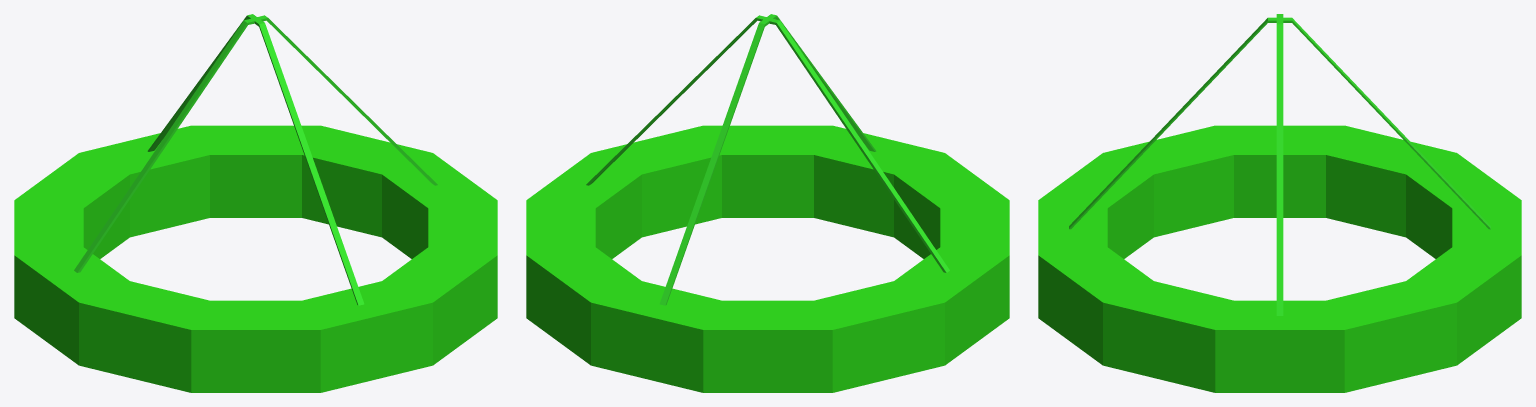
The model's file is Lamp_11_B.fbx.
3 views of the same model, side by side, from view 1: azimuth 30°, elevation 25°; view 2: azimuth 150°, elevation 25°; view 3: azimuth 270°, elevation 25° (orthographic).
Visible parts, largest first — view 1: Lamp_11_B, Lamp_11_B_Support; view 2: Lamp_11_B, Lamp_11_B_Support; view 3: Lamp_11_B, Lamp_11_B_Support.
Boxes of the visible parts, left/top/right/bottom form: Lamp_11_B: left=14, top=125, right=497, bottom=392; Lamp_11_B_Support: left=74, top=14, right=437, bottom=305; Lamp_11_B: left=526, top=125, right=1009, bottom=392; Lamp_11_B_Support: left=586, top=14, right=949, bottom=305; Lamp_11_B: left=1038, top=125, right=1521, bottom=392; Lamp_11_B_Support: left=1069, top=14, right=1490, bottom=315.
Bounding box in the file's own units: 132 × 82.11 × 132.
